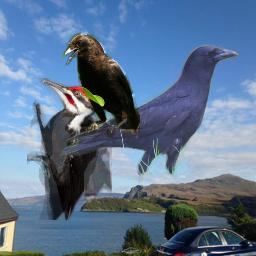Crow: (60, 44, 238, 188), (62, 32, 140, 138)
Woodpecker: (27, 78, 112, 220)
